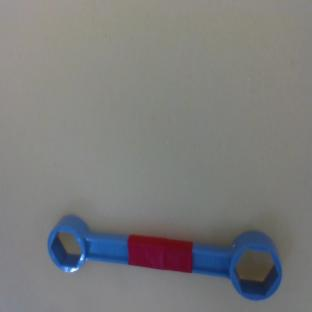part_3_good: (44, 213, 286, 302)
